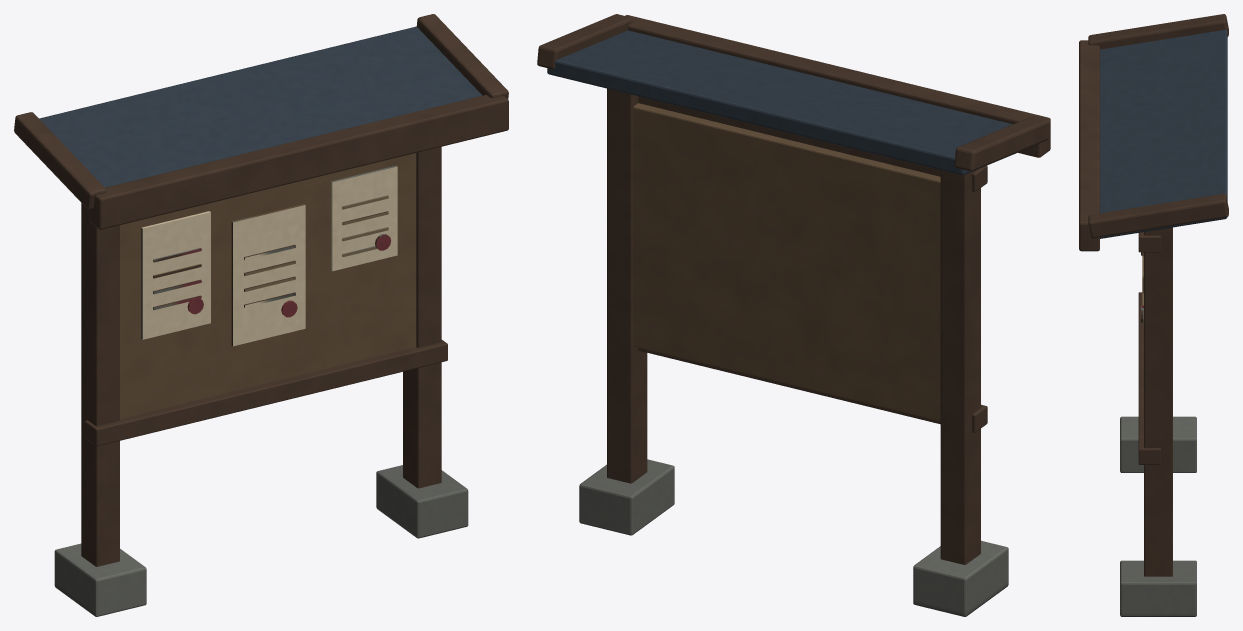
Rendered from Noticeboard.fbx.
The picture shows the model from 3 angles, left to right: view 1: azimuth 30°, elevation 25°; view 2: azimuth 150°, elevation 25°; view 3: azimuth 270°, elevation 25°; orthographic projection. The views are drawn at different scales.
Visible parts, largest first — view 1: Noticeboard.001; view 2: Noticeboard.001; view 3: Noticeboard.001.
Boxes of the visible parts, bbox=[...] form: Noticeboard.001: bbox=[14, 14, 508, 616]; Noticeboard.001: bbox=[537, 14, 1050, 616]; Noticeboard.001: bbox=[1079, 14, 1228, 616].
Size of the model in its own units: 2.77 by 2.94 by 0.9327.
